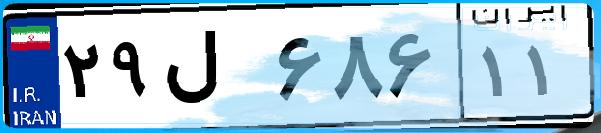1: (475, 38, 525, 113), (525, 38, 570, 115)
2: (57, 26, 110, 100)
6: (270, 28, 330, 110), (385, 28, 445, 110)
8: (330, 28, 385, 110)
9: (110, 28, 158, 98)
ل: (158, 20, 270, 120)
